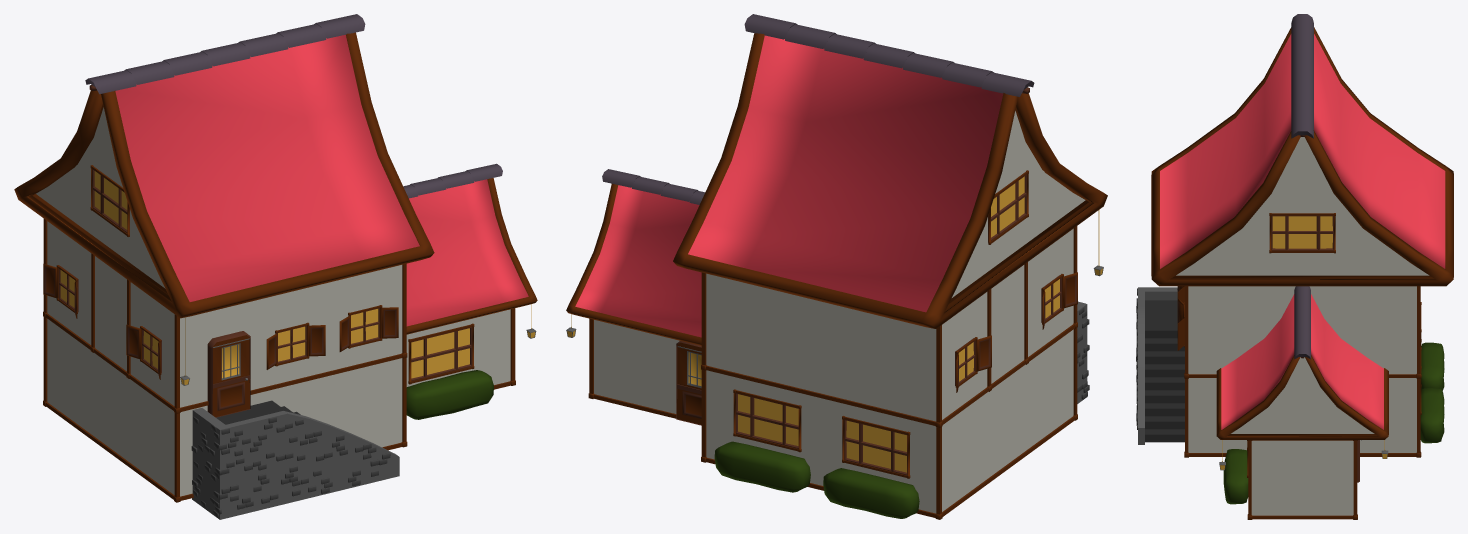
File: MediumHouseVariation1.fbx
3 renders of one model, left to right at view 1: azimuth 30°, elevation 25°; view 2: azimuth 150°, elevation 25°; view 3: azimuth 270°, elevation 25°, orthographic. The views are drawn at different scales.
Visible parts, largest first — view 1: Telhado, Base.001, Escada, JanelasPequenas.002, Telhas.002, EstruturaDaBorda.001, JanelasGrandes.002, Tijolos, Portas.001, Arbustos.002; view 2: Telhado, Base.001, JanelasGrandes.002, EstruturaDaBorda.001, Telhas.002, Arbustos.002, JanelasPequenas.002, Portas.001, Escada; view 3: Telhado, Base.001, Escada, Telhas.002, Arbustos.002, EstruturaDaBorda.001, JanelasGrandes.002, JanelasPequenas.002.
Boxes of the visible parts, x1,y1,x2,y2 form: Telhado: (14, 32, 537, 334); Base.001: (36, 107, 510, 496); Escada: (192, 400, 399, 519); JanelasPequenas.002: (43, 263, 398, 379); Telhas.002: (85, 14, 502, 198); EstruturaDaBorda.001: (43, 218, 515, 502); JanelasGrandes.002: (90, 165, 474, 384); Tijolos: (191, 416, 390, 517); Portas.001: (207, 331, 250, 417); Arbustos.002: (406, 370, 493, 419); Telhado: (566, 33, 1107, 345); Base.001: (594, 111, 1085, 513); JanelasGrandes.002: (733, 170, 1028, 478); EstruturaDaBorda.001: (588, 226, 1077, 519); Telhas.002: (602, 14, 1034, 204); Arbustos.002: (714, 441, 919, 518); JanelasPequenas.002: (955, 272, 1077, 392); Portas.001: (676, 341, 701, 425); Escada: (1077, 302, 1087, 403); Telhado: (1151, 27, 1453, 439); Base.001: (1176, 137, 1429, 515); Escada: (1138, 287, 1184, 444); Telhas.002: (1291, 14, 1313, 359); Arbustos.002: (1223, 342, 1444, 504); EstruturaDaBorda.001: (1184, 286, 1421, 519); JanelasGrandes.002: (1247, 213, 1421, 477); JanelasPequenas.002: (1177, 286, 1184, 350).
Size of the model in its own units: 1284 by 1146 by 976.
